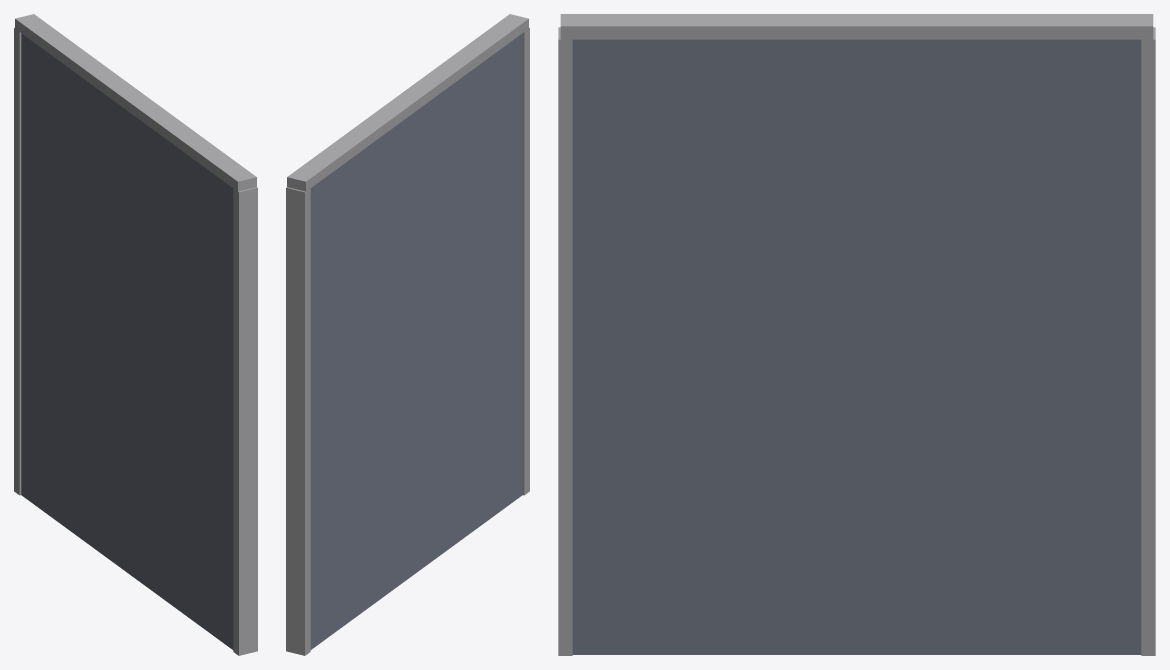
The model's file is SM_Partition.fbx.
The picture shows the model from 3 angles, left to right: view 1: azimuth 30°, elevation 25°; view 2: azimuth 150°, elevation 25°; view 3: azimuth 270°, elevation 25°; orthographic projection. The views are drawn at different scales.
Parts seen in each view (by area): view 1: SM_Partition; view 2: SM_Partition; view 3: SM_Partition.
Part boxes in pixels (x1=…): SM_Partition: x1=14, y1=14, x2=257, y2=655; SM_Partition: x1=286, y1=14, x2=529, y2=655; SM_Partition: x1=558, y1=14, x2=1155, y2=655.
Bounding box in the file's own units: 6 × 143 × 123.
